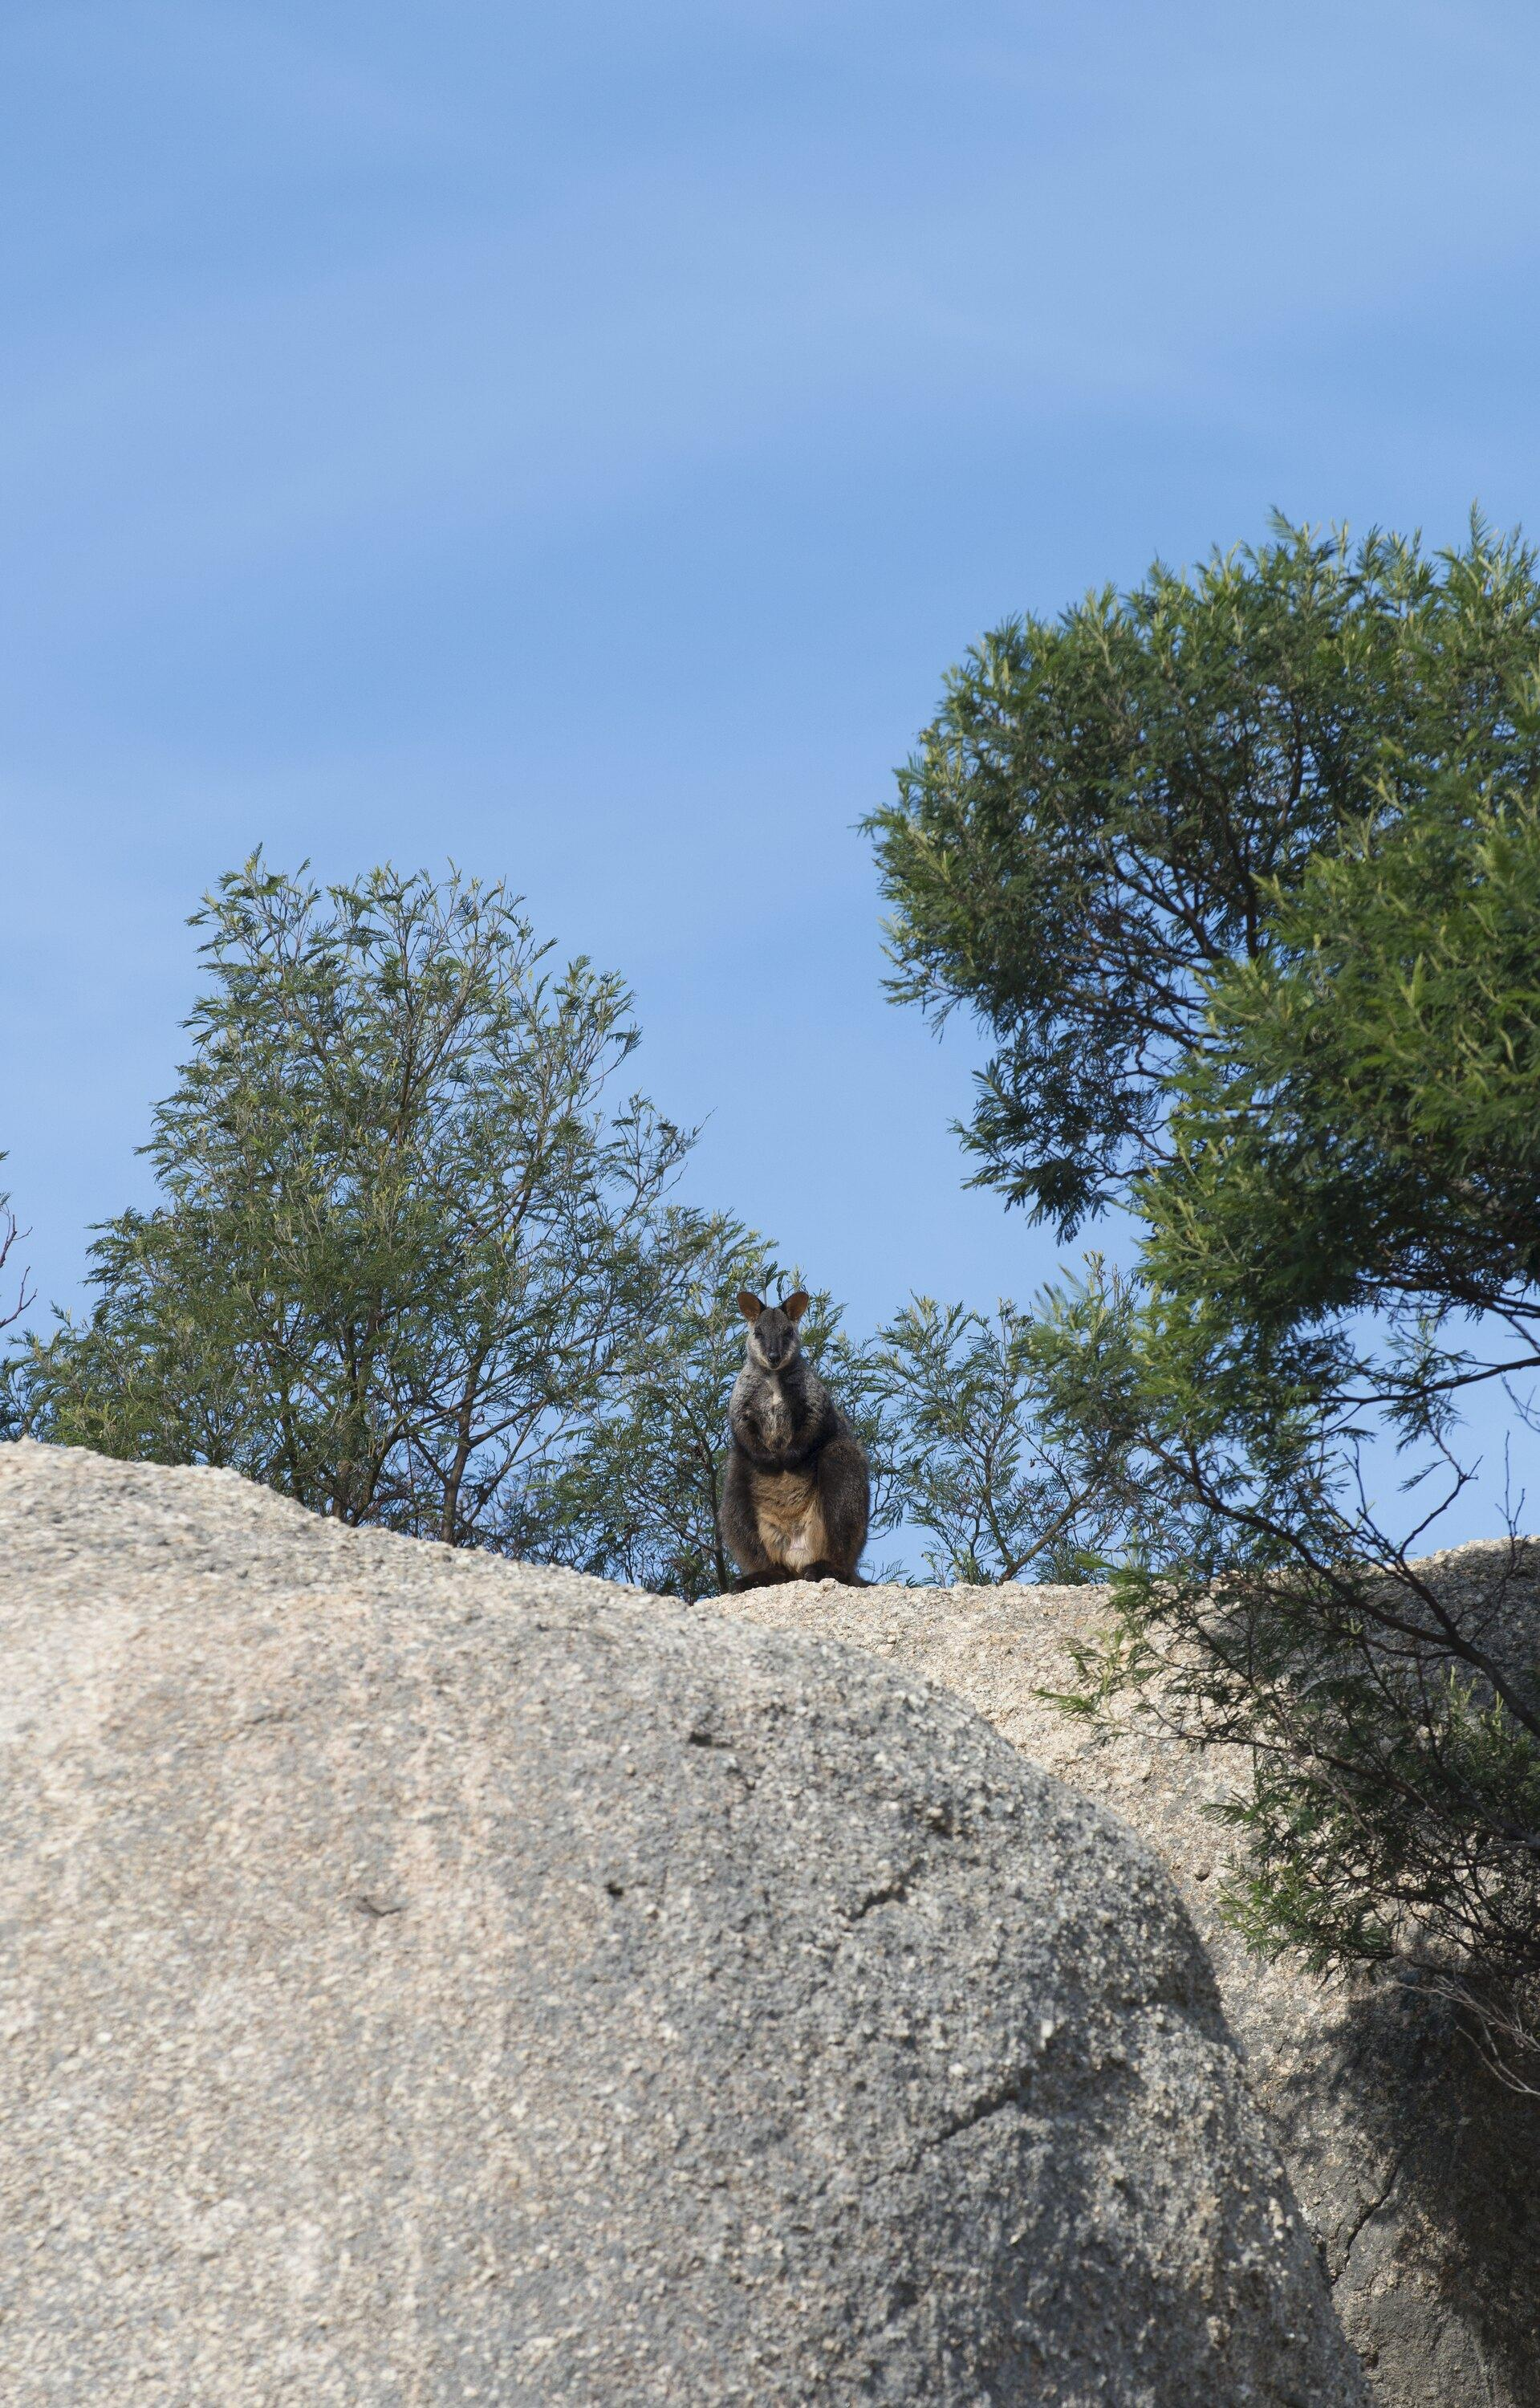Brush-tailed rock-wallaby: (689, 1279, 870, 1594)
